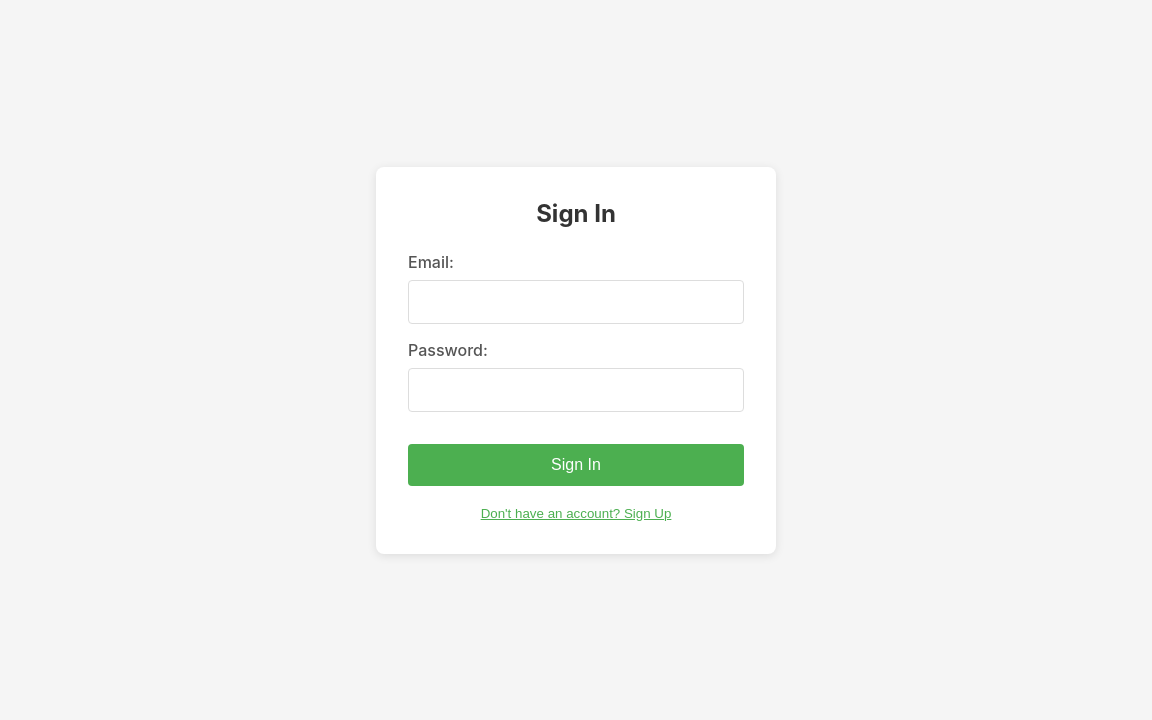
Test: Validation › shows the server error when the title is below the 3-character minimum
In the field with id "email": (576, 302) [408,280,744,324], type "test@example.com"
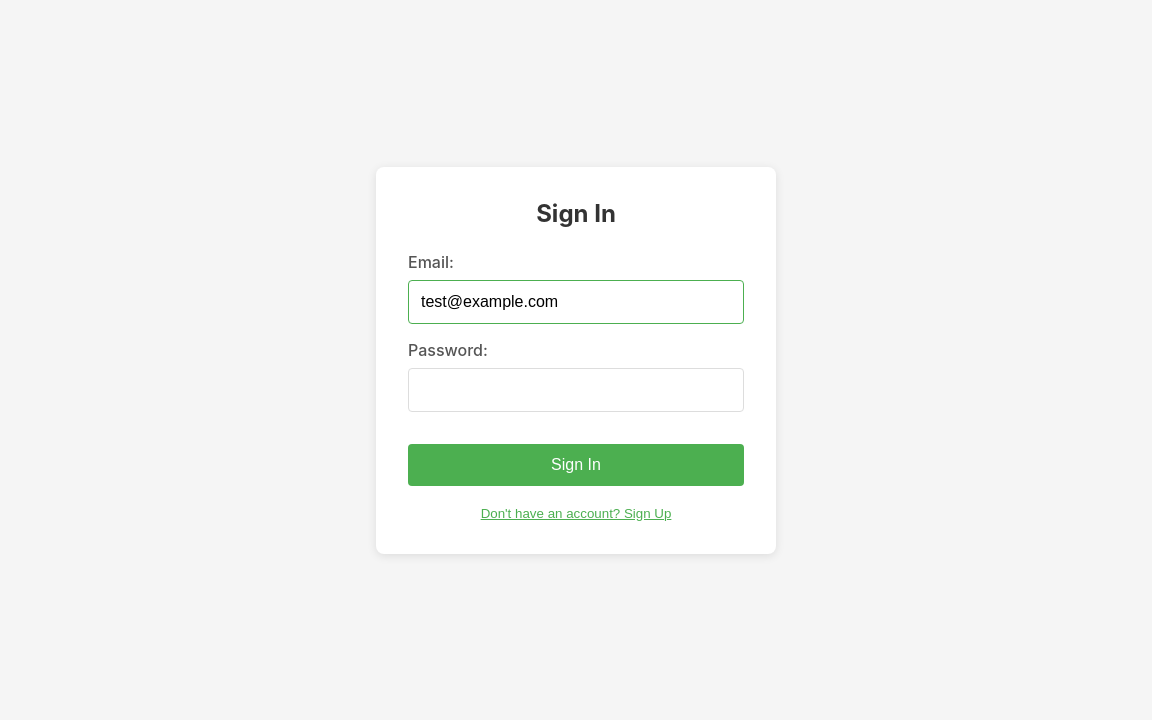
In the password field labelled "Password:": (576, 390) [408,368,744,412], type "password123"
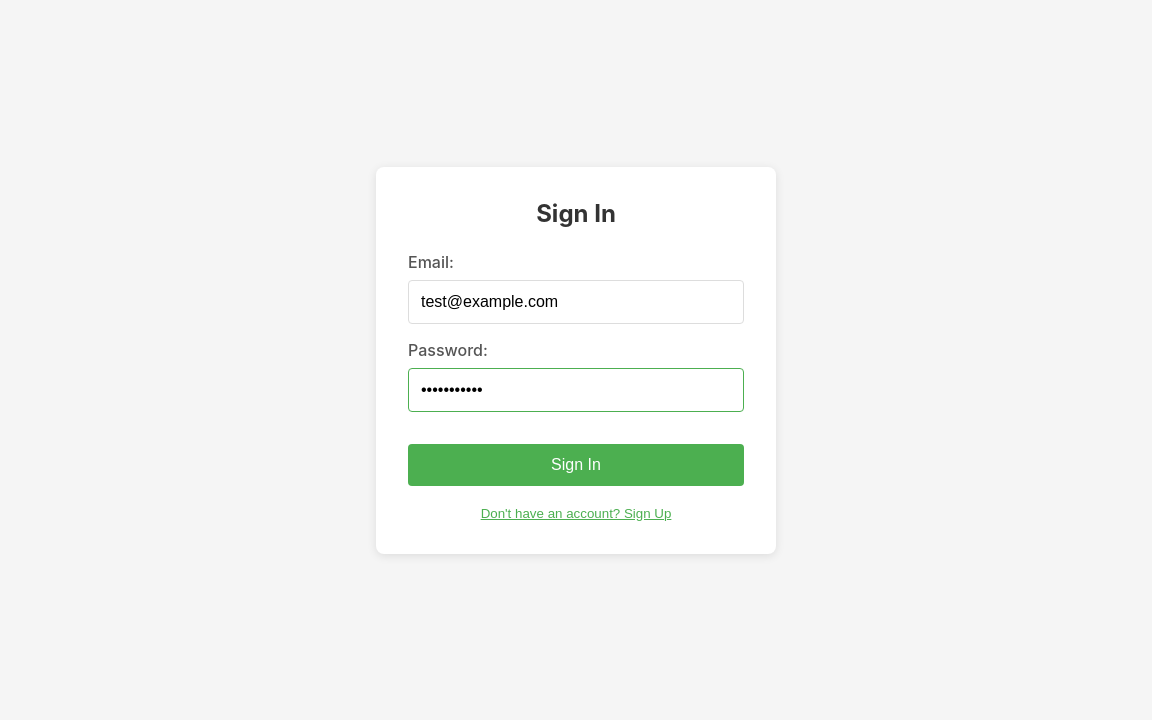
Click the submit button: (576, 465) [408,444,744,486]
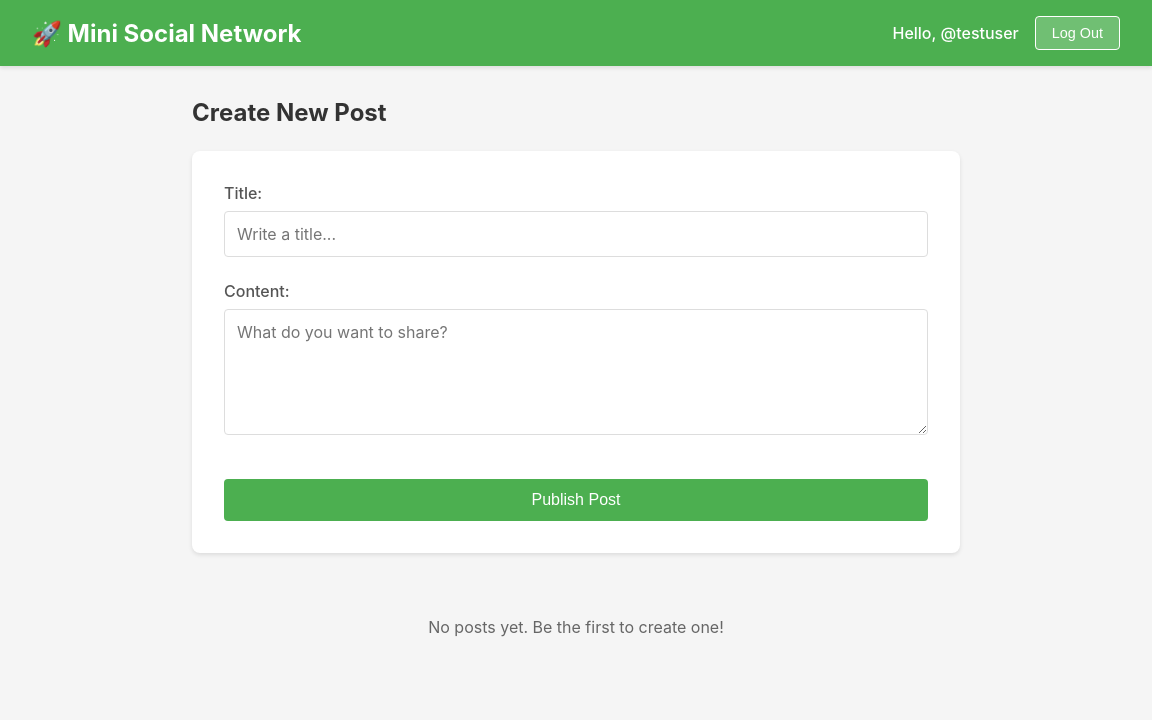
In the field with placeholder "Write a title...": (576, 234) [224,211,928,257], type "ab"
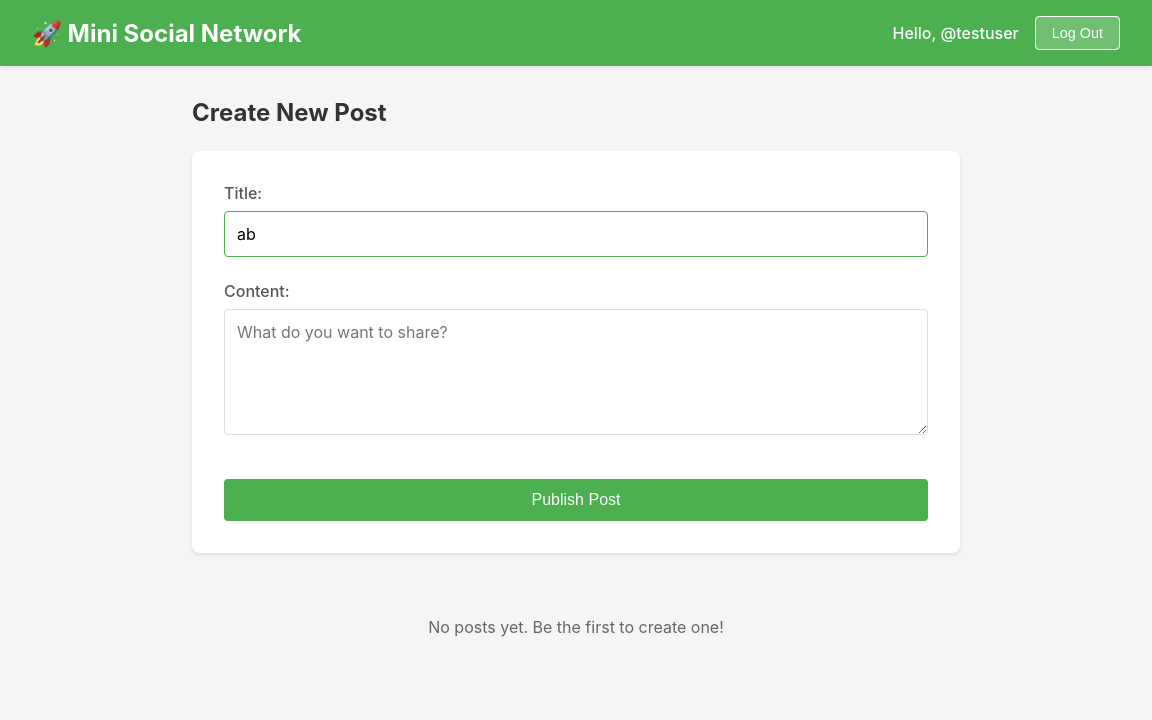
In the text box with placeholder "What do you want to share?": (576, 372) [224,309,928,435], type "Some content"
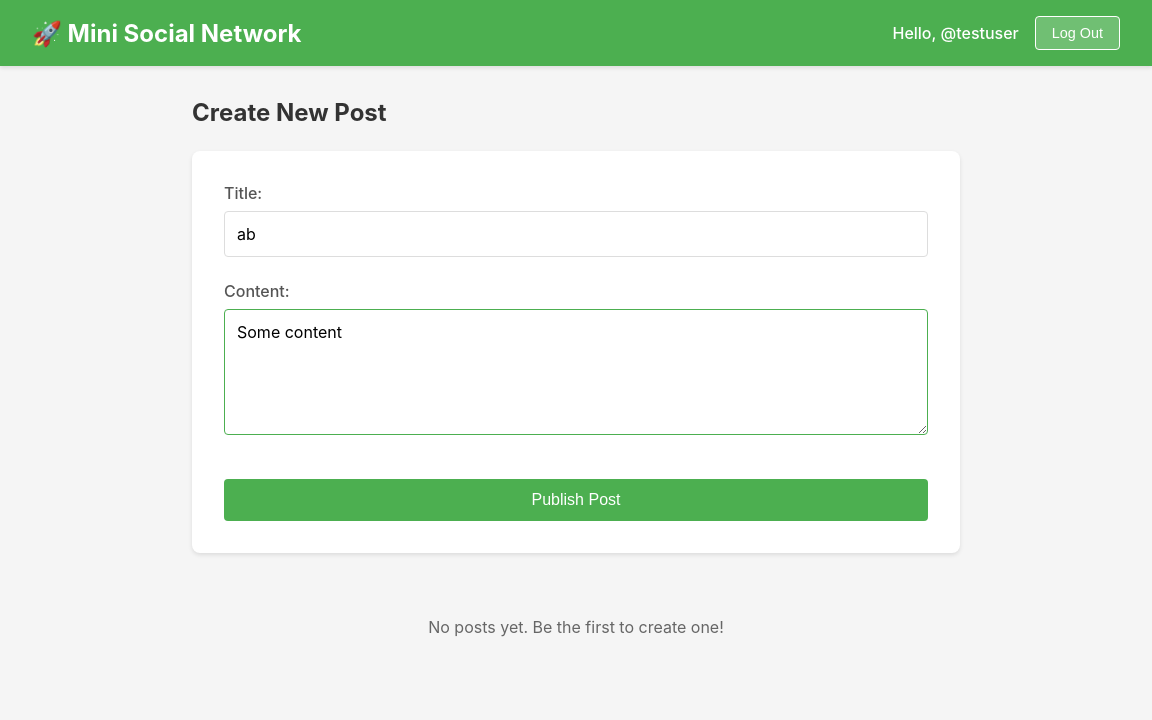
Click the button "Publish Post": (576, 500) [224,479,928,521]
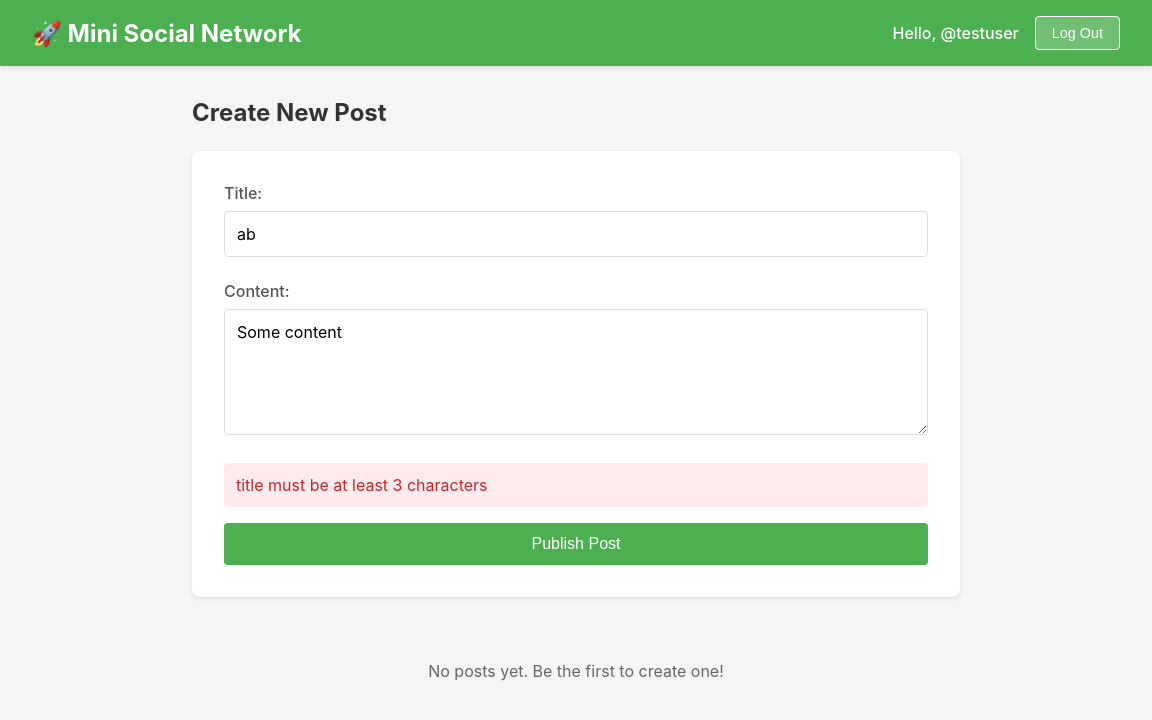
Expected: the text "title must be at least 3 characters" is shown, [224,463,928,507]
